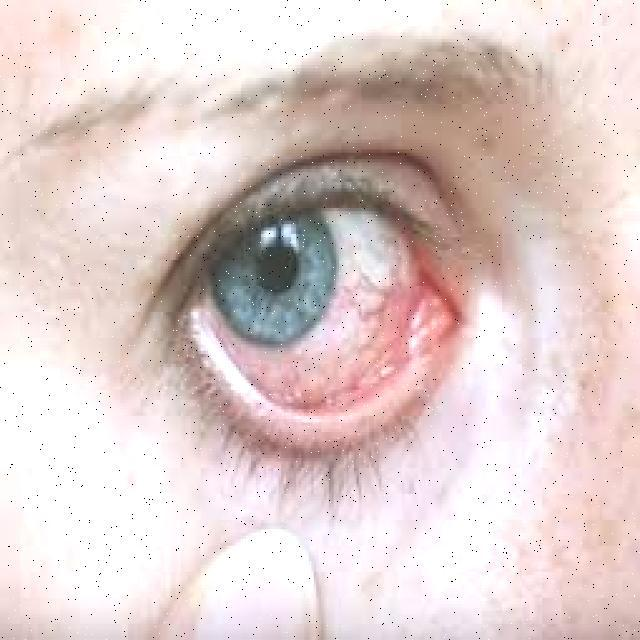Conjunctivitis: (216, 240, 474, 404)
